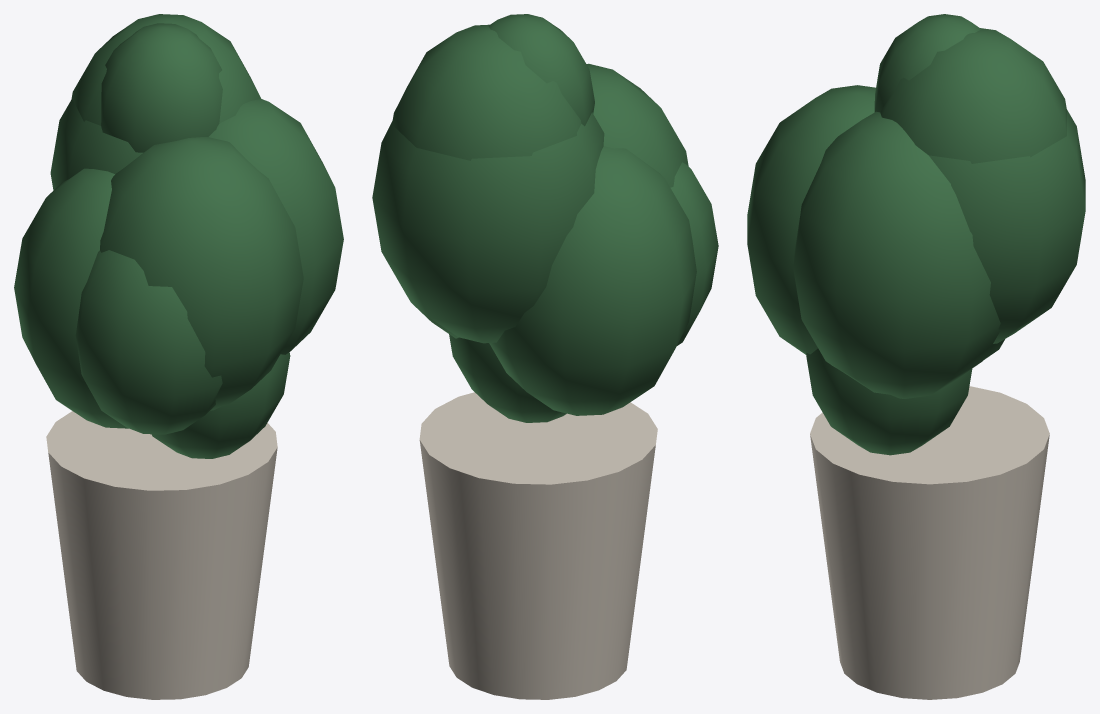
File: Plant_2.glb
The picture shows the model from 3 angles, left to right: view 1: azimuth 30°, elevation 25°; view 2: azimuth 150°, elevation 25°; view 3: azimuth 270°, elevation 25°; orthographic projection. The views are drawn at different scales.
Visible parts, largest first — view 1: Plant_2_Foliage, Plant_2_Planter; view 2: Plant_2_Foliage, Plant_2_Planter; view 3: Plant_2_Foliage, Plant_2_Planter.
Part boxes in pixels (<box>): Plant_2_Foliage: <box>14,14,343,458</box>; Plant_2_Planter: <box>46,411,277,699</box>; Plant_2_Foliage: <box>372,14,718,422</box>; Plant_2_Planter: <box>419,392,657,699</box>; Plant_2_Foliage: <box>747,14,1085,455</box>; Plant_2_Planter: <box>810,386,1049,699</box>.
Size of the model in its own units: 0.5798 by 1.19 by 0.5638.
